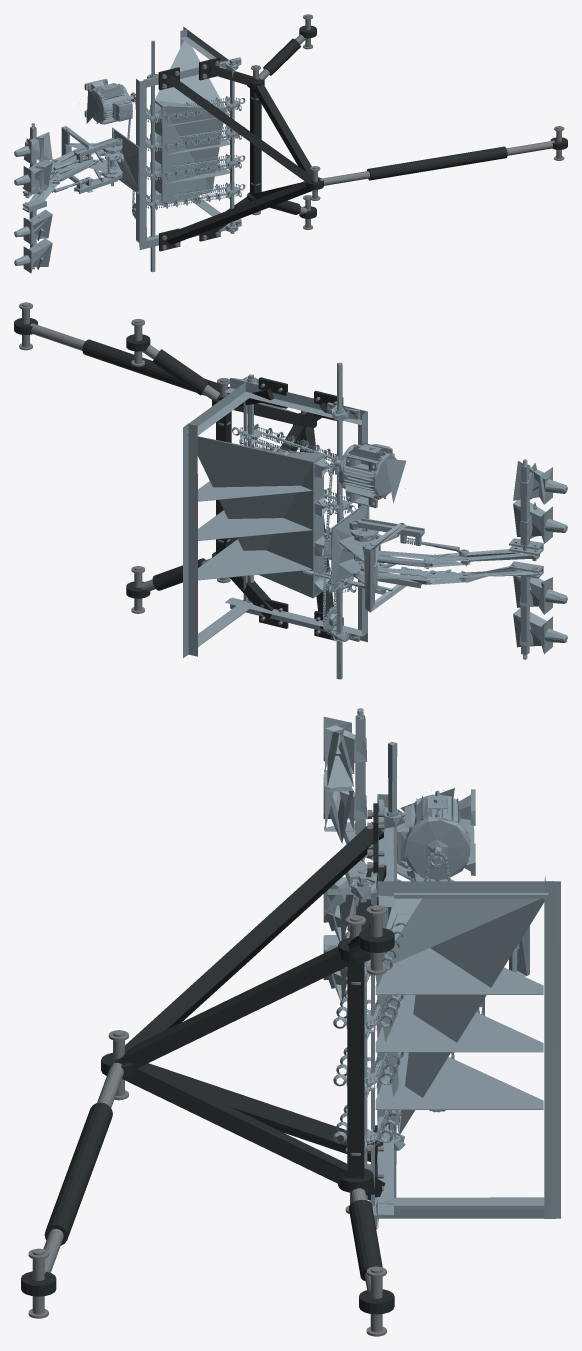
File: implement_garlic_planter_visual.obj
3 renders of one model, top to bottom at view 1: azimuth 30°, elevation 25°; view 2: azimuth 150°, elevation 25°; view 3: azimuth 270°, elevation 25°, orthographic. The views are drawn at different scales.
Visible parts, largest first — view 1: solid_292, hitch_receiver_member_6, hitch_top_link_sleeve, solid_865, hitch_receiver_member_5, hitch_receiver_member_1, solid_98, hitch_receiver_member_0, solid_8, solid_2545, hitch_top_link_rod, solid_2544 (+11 smaller); view 2: solid_292, solid_869, solid_98, solid_299, solid_848, hitch_top_link_sleeve, solid_8, solid_866, solid_2545, solid_849, solid_27, solid_864 (+18 smaller); view 3: solid_292, hitch_receiver_member_5, hitch_receiver_member_1, hitch_receiver_member_2, solid_299, solid_848, solid_869, solid_849, hitch_receiver_member_0, hitch_receiver_member_6, solid_293, hitch_top_link_sleeve (+13 smaller).
Boxes of the visible parts, x1,y1,x2,y2 form: solid_292: (155, 41, 225, 205); hitch_receiver_member_6: (166, 181, 312, 244); hitch_top_link_sleeve: (367, 146, 507, 180); solid_865: (136, 79, 146, 242); hitch_receiver_member_5: (166, 75, 315, 182); hitch_receiver_member_1: (254, 79, 319, 182); solid_98: (84, 79, 127, 124); hitch_receiver_member_0: (250, 88, 261, 196); solid_8: (112, 127, 139, 194); solid_2545: (150, 40, 155, 272); hitch_top_link_rod: (319, 140, 554, 185); solid_2544: (230, 60, 234, 233); solid_292: (188, 434, 323, 598); solid_869: (183, 423, 197, 657); solid_98: (341, 443, 396, 508); solid_299: (198, 539, 312, 580); solid_848: (198, 510, 312, 540); hitch_top_link_sleeve: (82, 339, 229, 395); solid_8: (331, 505, 369, 592); solid_866: (225, 378, 361, 425); solid_2545: (336, 362, 342, 679); solid_849: (198, 481, 312, 501); solid_27: (364, 523, 406, 612); solid_864: (225, 598, 367, 642); solid_292: (375, 898, 544, 1135); hitch_receiver_member_5: (113, 822, 383, 1056); hitch_receiver_member_1: (115, 946, 353, 1068); hitch_receiver_member_2: (122, 1062, 347, 1184); solid_299: (375, 1052, 543, 1109); solid_848: (375, 995, 543, 1052); solid_869: (544, 875, 560, 1218); solid_849: (375, 948, 543, 994); hitch_receiver_member_0: (347, 962, 364, 1178); hitch_receiver_member_6: (144, 1063, 383, 1161); solid_293: (394, 893, 548, 1209); hitch_top_link_sleeve: (44, 1102, 112, 1245).
Size of the model in its own units: 2.61 by 1.2 by 1.28.
